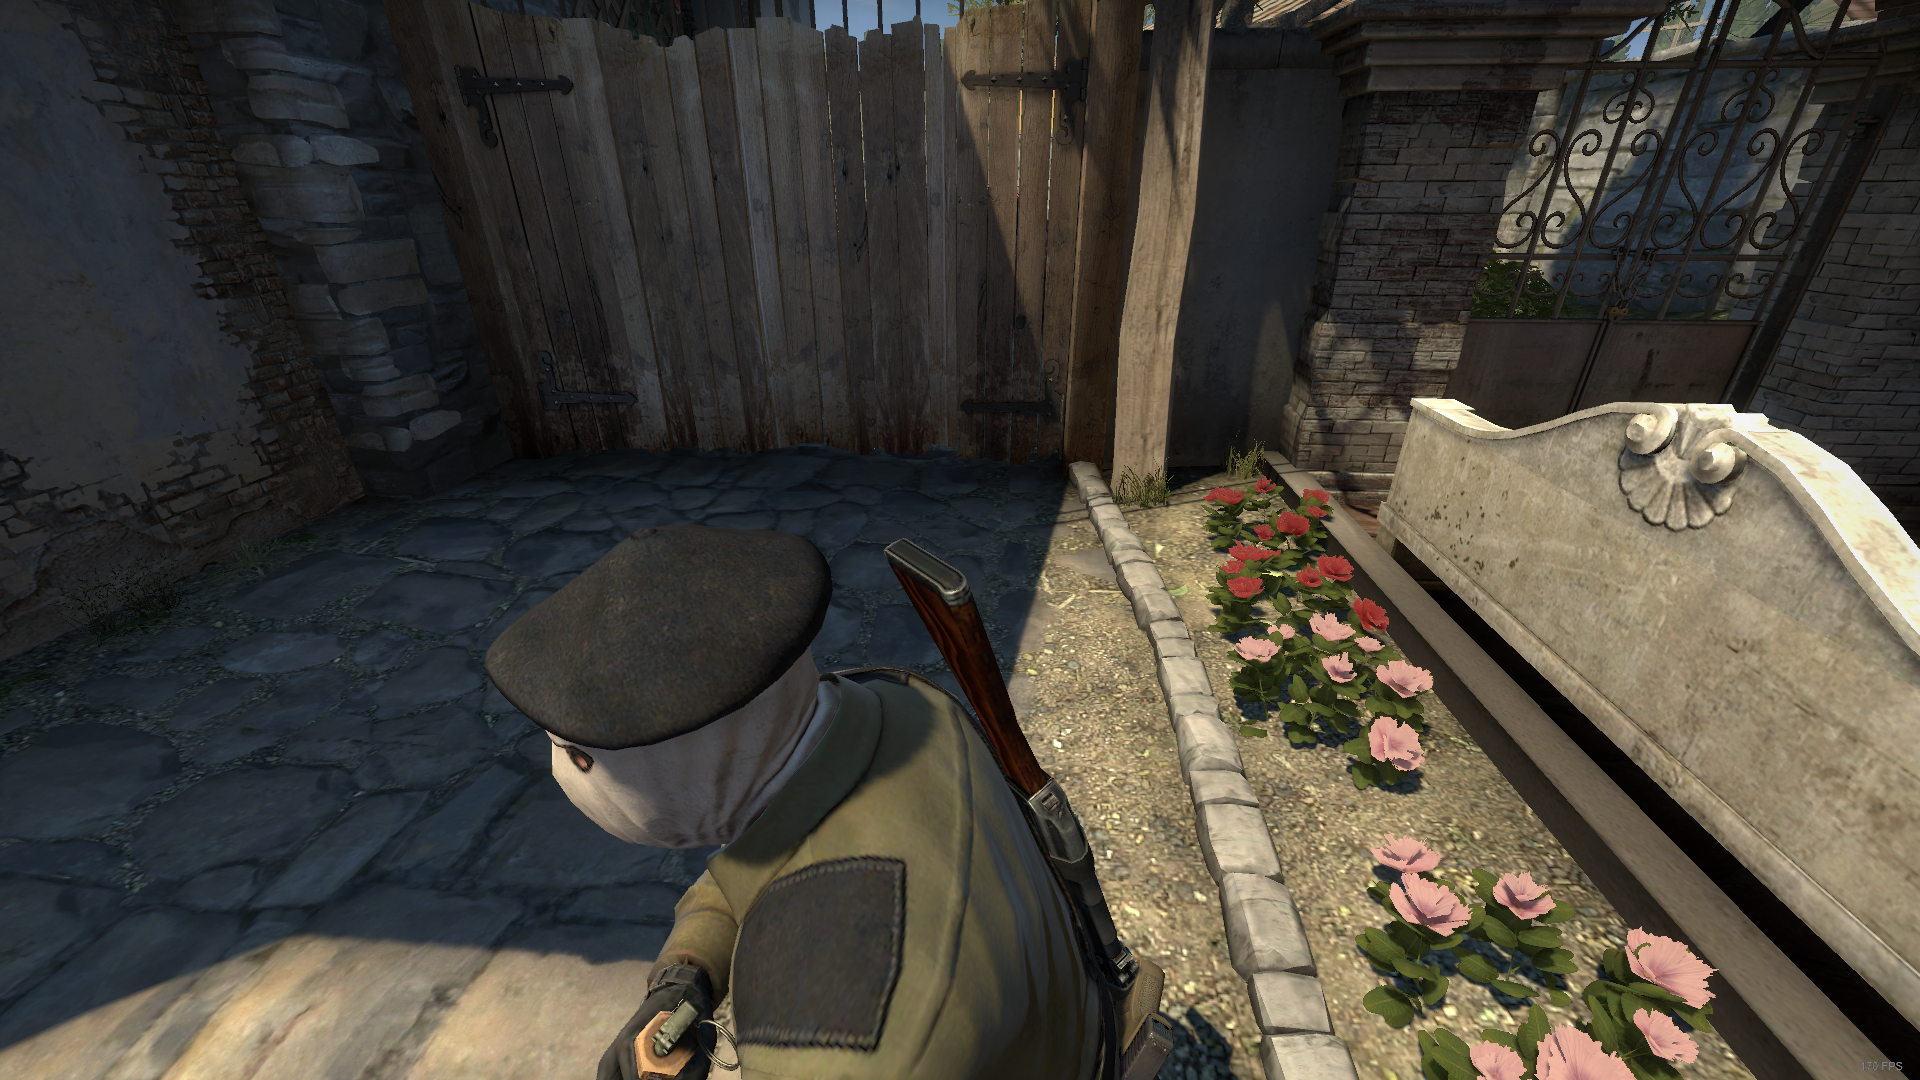t: (483, 524, 1164, 1080)
